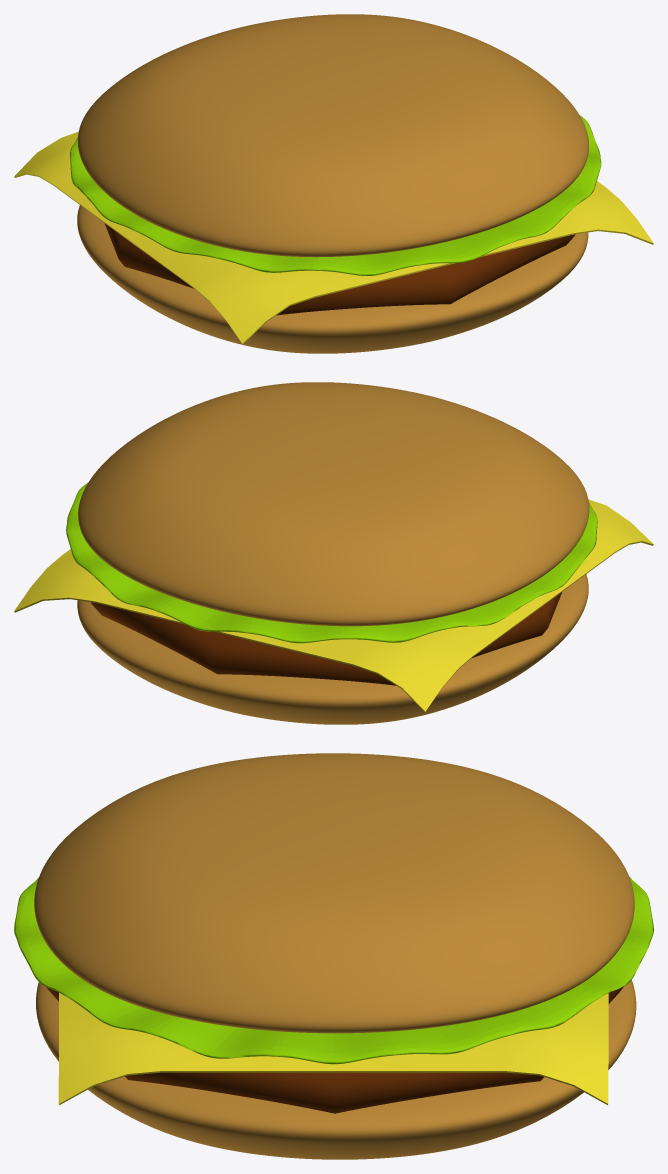
The model's file is burger.glb.
3 views of the same model, one above another, from view 1: azimuth 30°, elevation 25°; view 2: azimuth 150°, elevation 25°; view 3: azimuth 270°, elevation 25° (orthographic). The views are drawn at different scales.
Visible parts, largest first — view 1: Объект.001, Объект.003, Плоскость, Цилиндр, Объект.002; view 2: Объект.001, Объект.003, Плоскость, Цилиндр, Объект.002; view 3: Объект.001, Объект.003, Цилиндр, Плоскость, Объект.002.
Boxes of the visible parts, box(x1,y1,x2,y2) form: Объект.001: box(78, 14, 588, 257); Объект.003: box(77, 205, 588, 353); Плоскость: box(14, 132, 653, 344); Цилиндр: box(70, 115, 601, 275); Объект.002: box(104, 223, 575, 315); Объект.001: box(78, 382, 589, 626); Объект.003: box(77, 574, 588, 724); Плоскость: box(14, 499, 653, 712); Цилиндр: box(66, 483, 597, 643); Объект.002: box(91, 592, 561, 685); Объект.001: box(34, 753, 634, 1033); Объект.003: box(36, 980, 636, 1159); Цилиндр: box(14, 877, 653, 1064); Плоскость: box(58, 992, 608, 1104); Объект.002: box(46, 986, 623, 1113).
Bounding box in the file's own units: 5.89 × 2.68 × 5.89.
